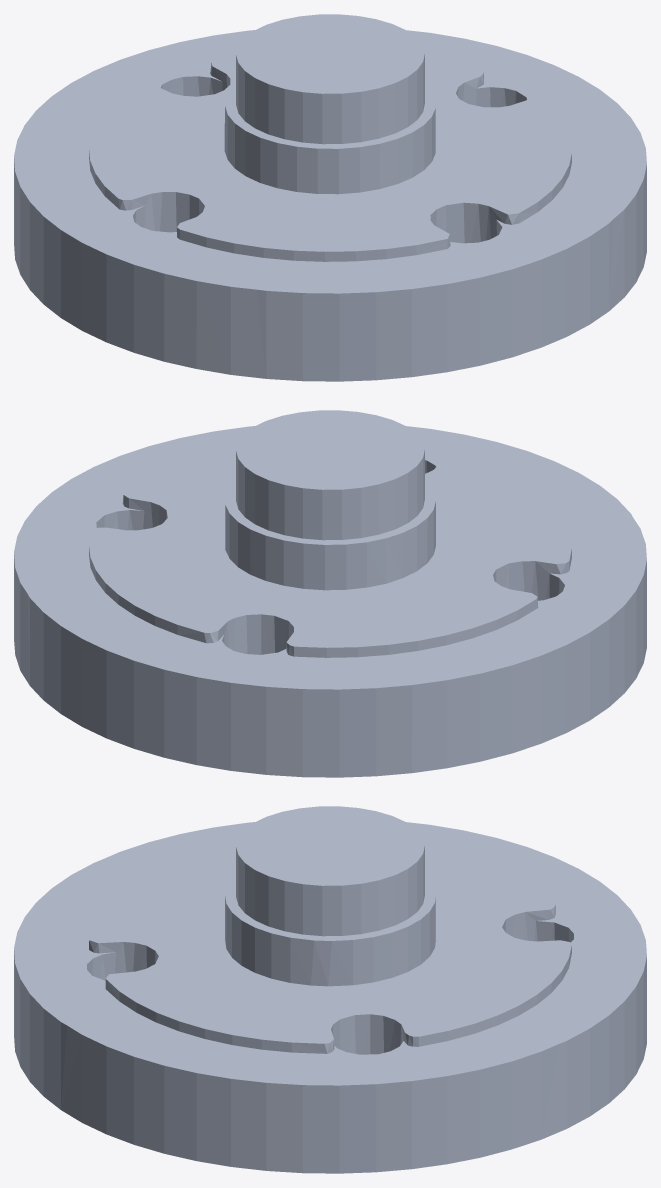
3 renders of one model, top to bottom at view 1: azimuth 30°, elevation 25°; view 2: azimuth 150°, elevation 25°; view 3: azimuth 270°, elevation 25°, orthographic.
Parts seen in each view (by area): view 1: link3_02; view 2: link3_02; view 3: link3_02.
Boxes of the visible parts, <box> form: link3_02: <box>14,14,646,381</box>; link3_02: <box>14,410,646,777</box>; link3_02: <box>14,806,646,1173</box>.
Size of the model in its own units: 0.057 by 0.0193 by 0.057.
